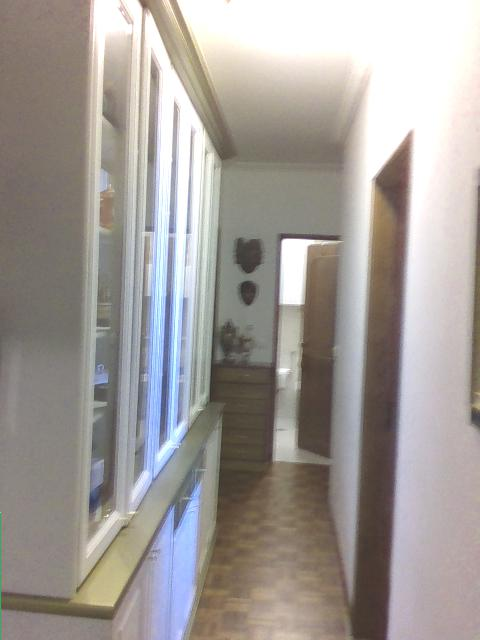semi_door: (268, 230, 343, 466)
